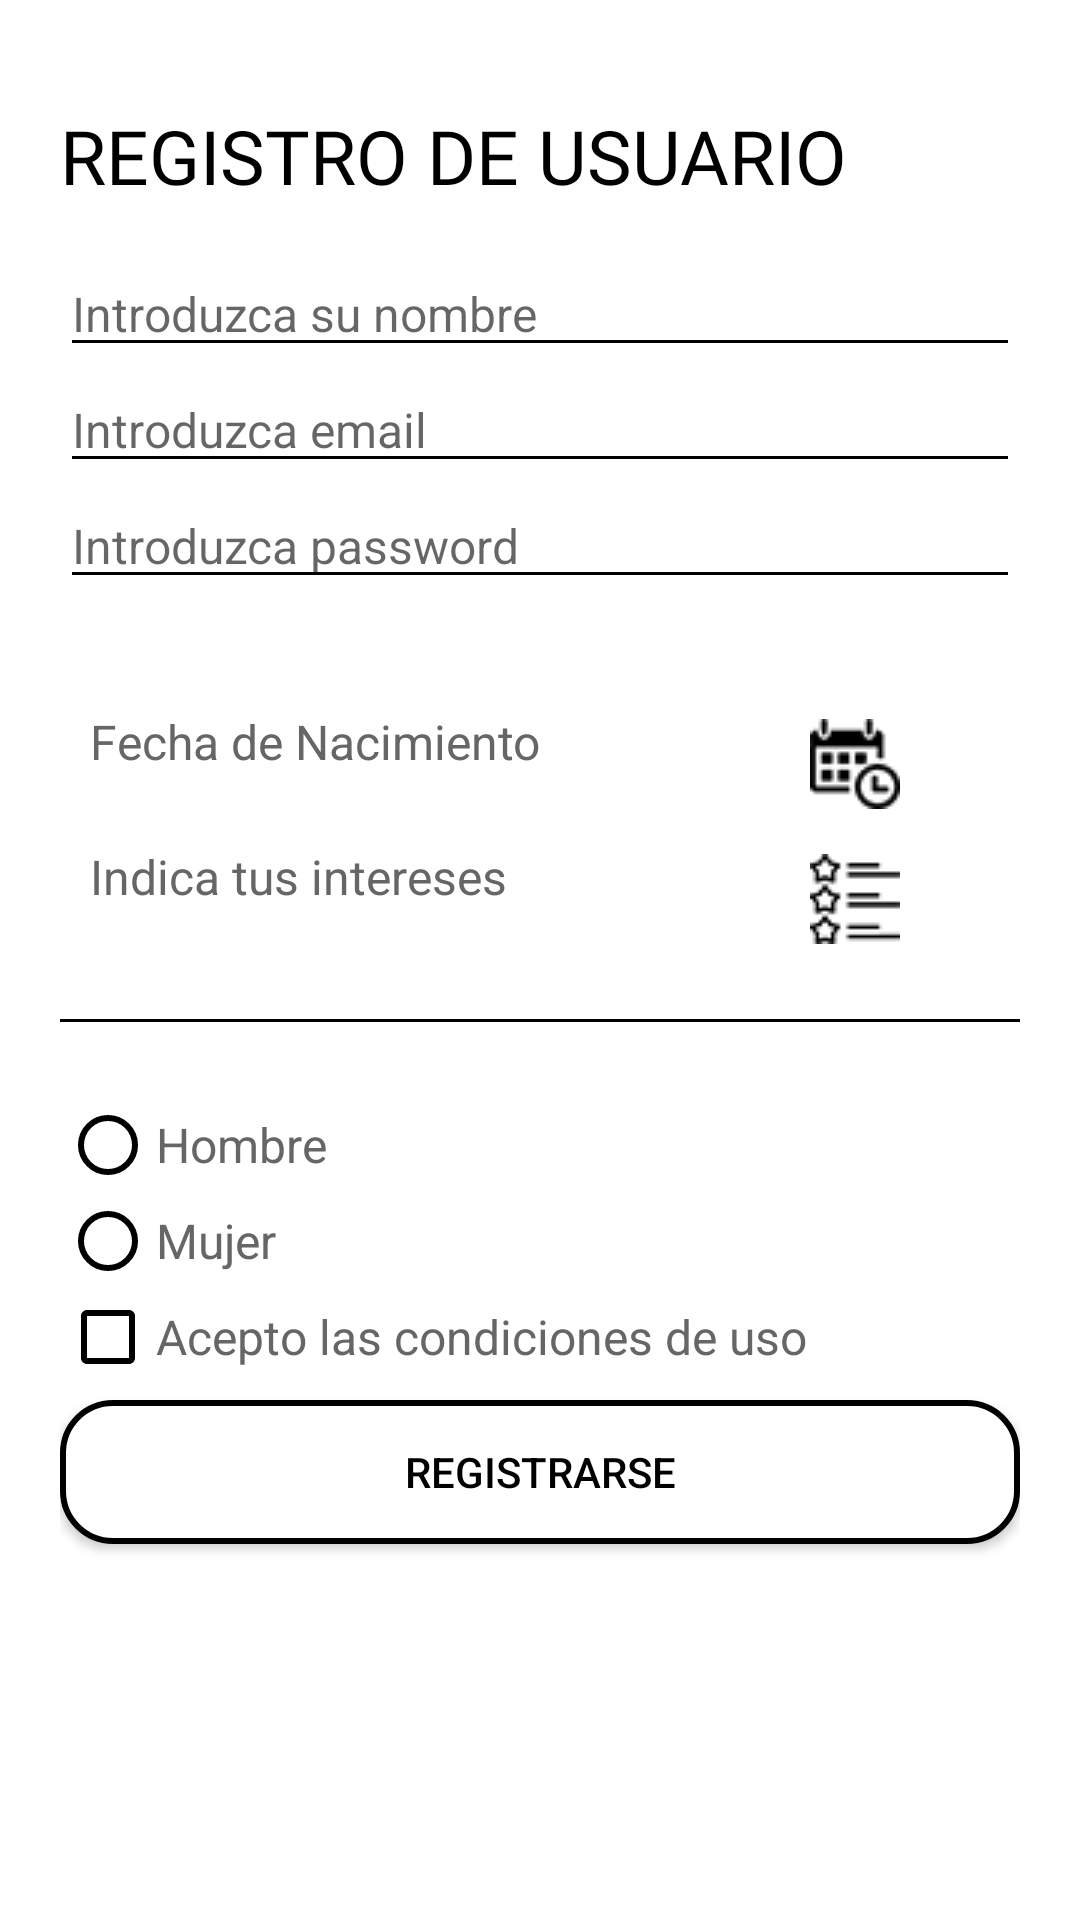

Screen size 1080×1920. Icon name, then its box in pixels as (x1, y1, x2, y2):
calendar: (810, 719, 900, 809)
rating: (810, 854, 900, 944)
